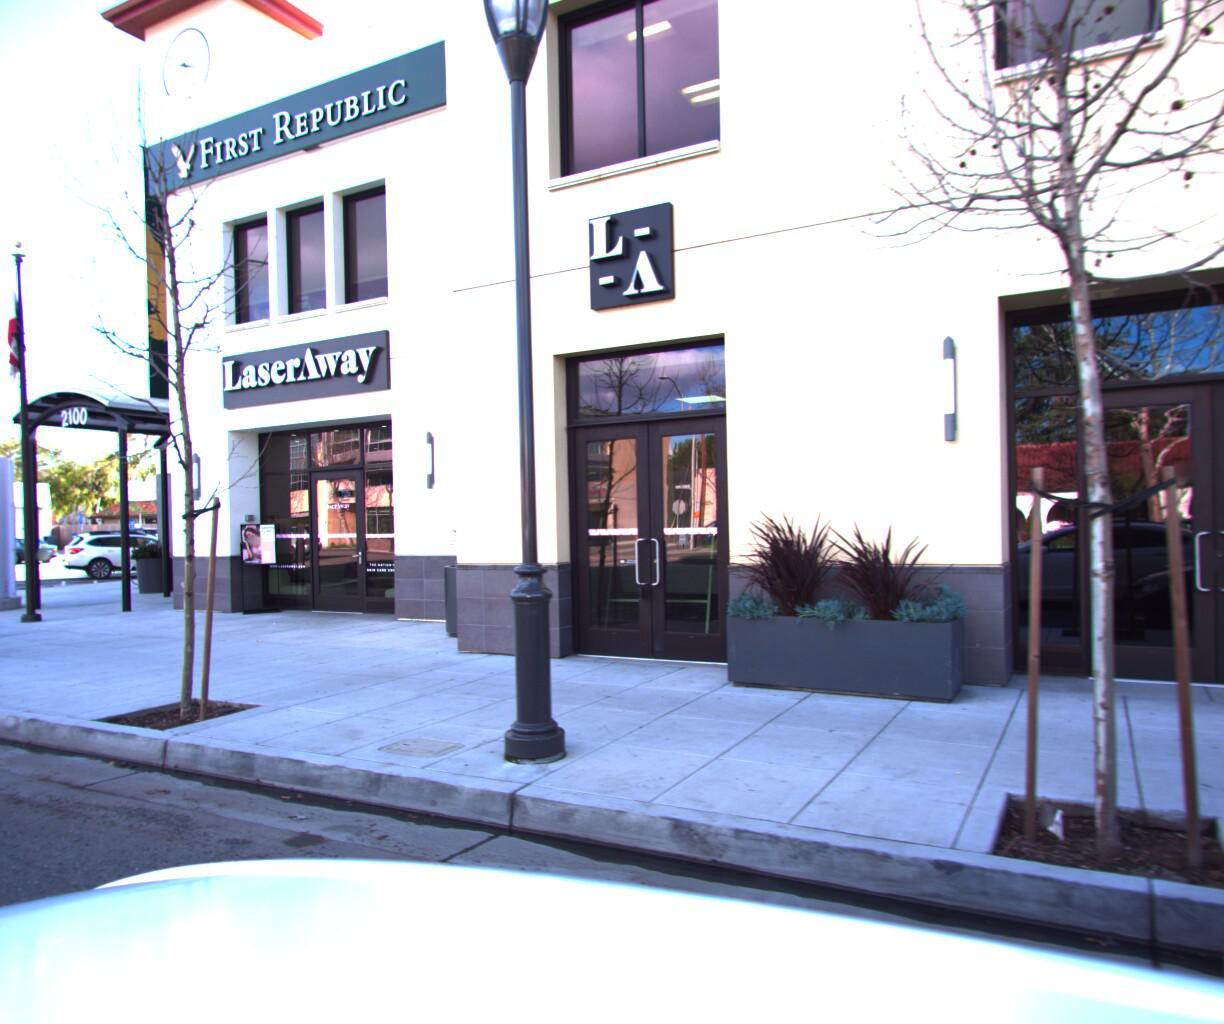car: (62, 527, 219, 579), (0, 535, 68, 562)
